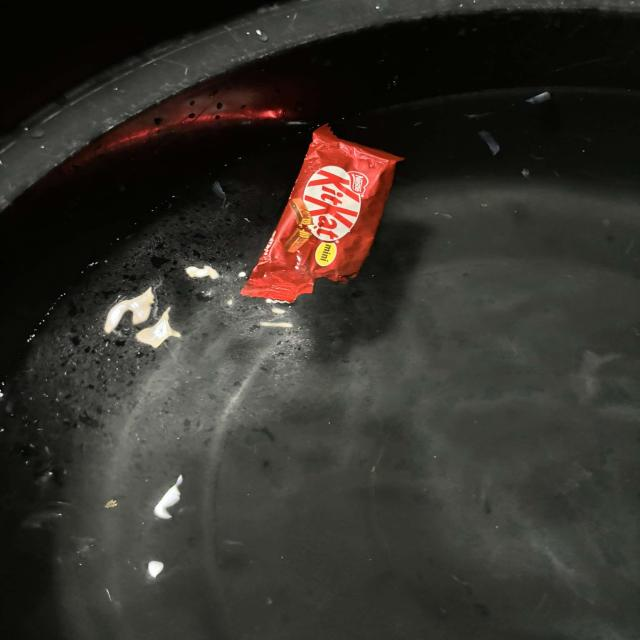Plastic Wrapper: (226, 114, 439, 314)
